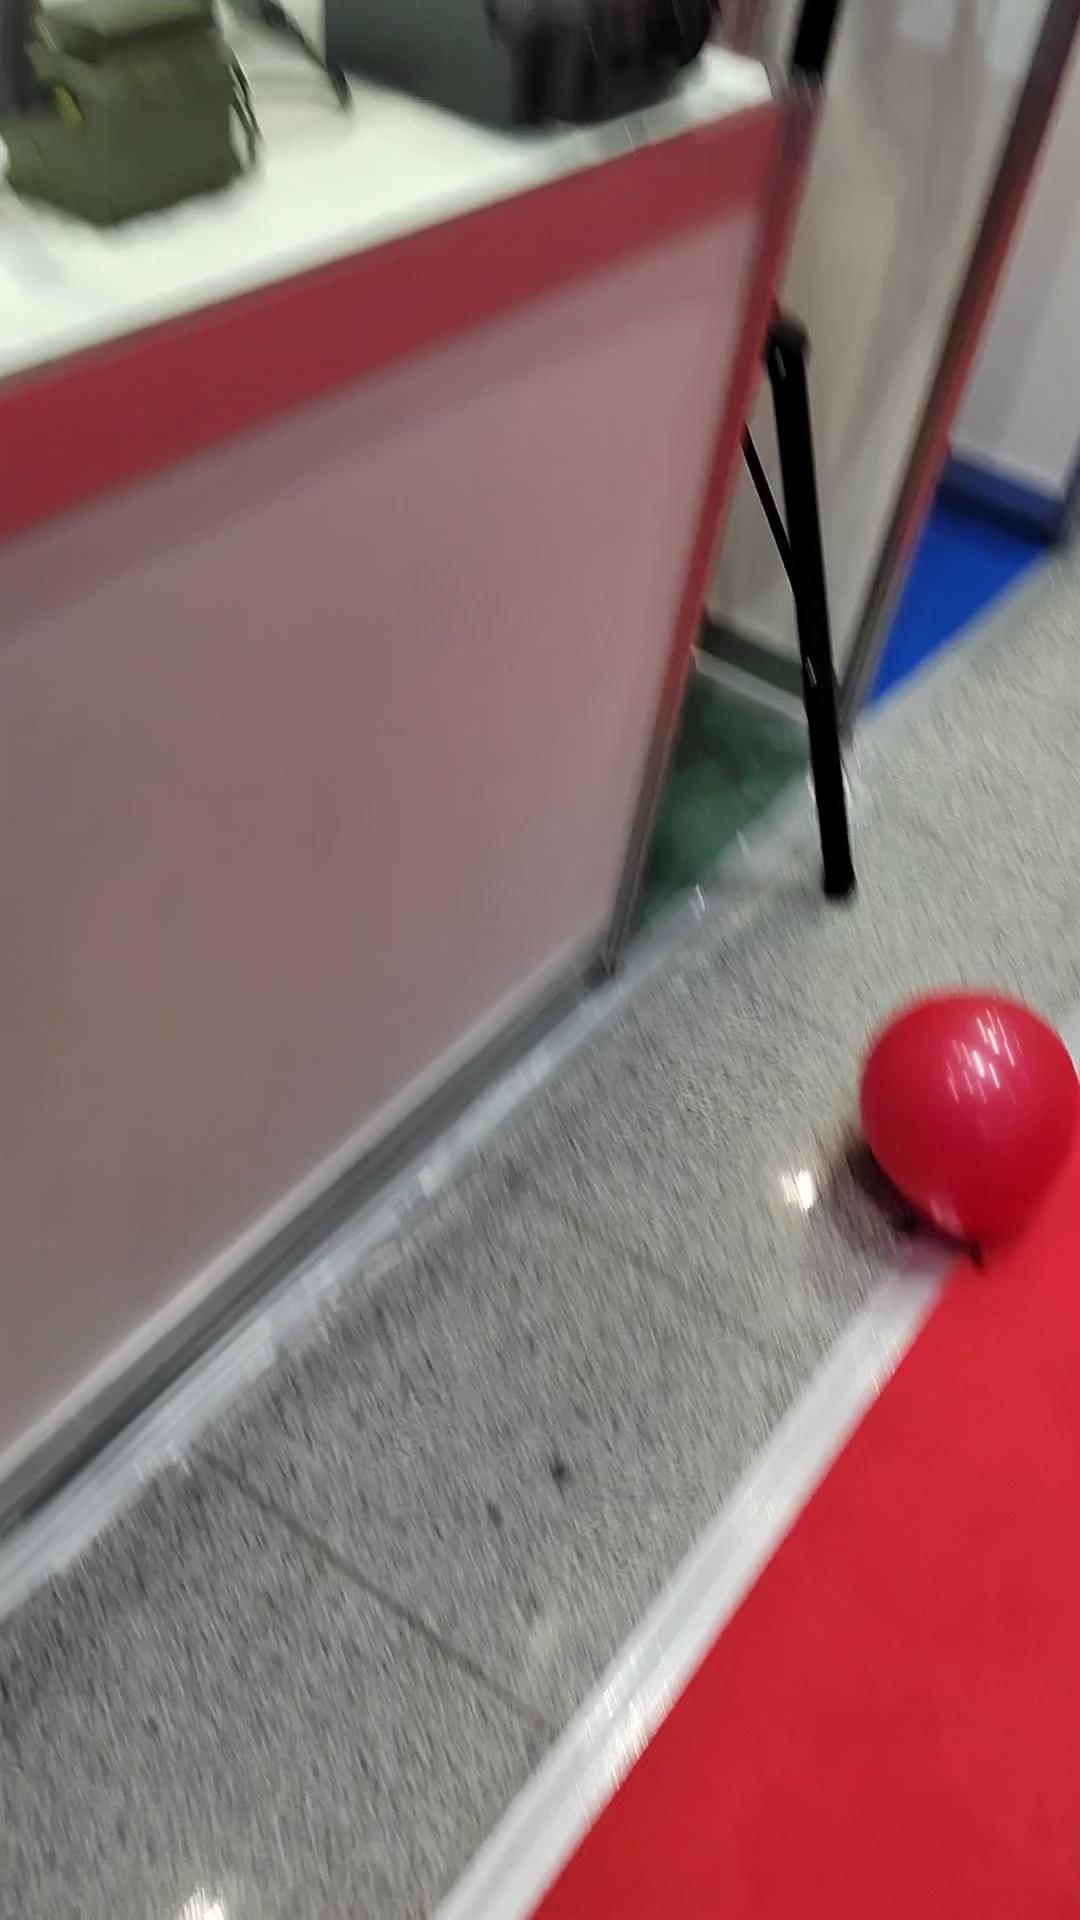red: (857, 981, 1080, 1238)
